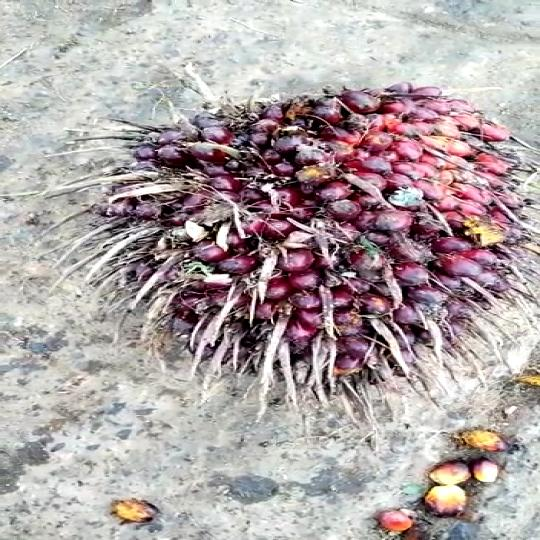masak: (101, 83, 526, 390)
